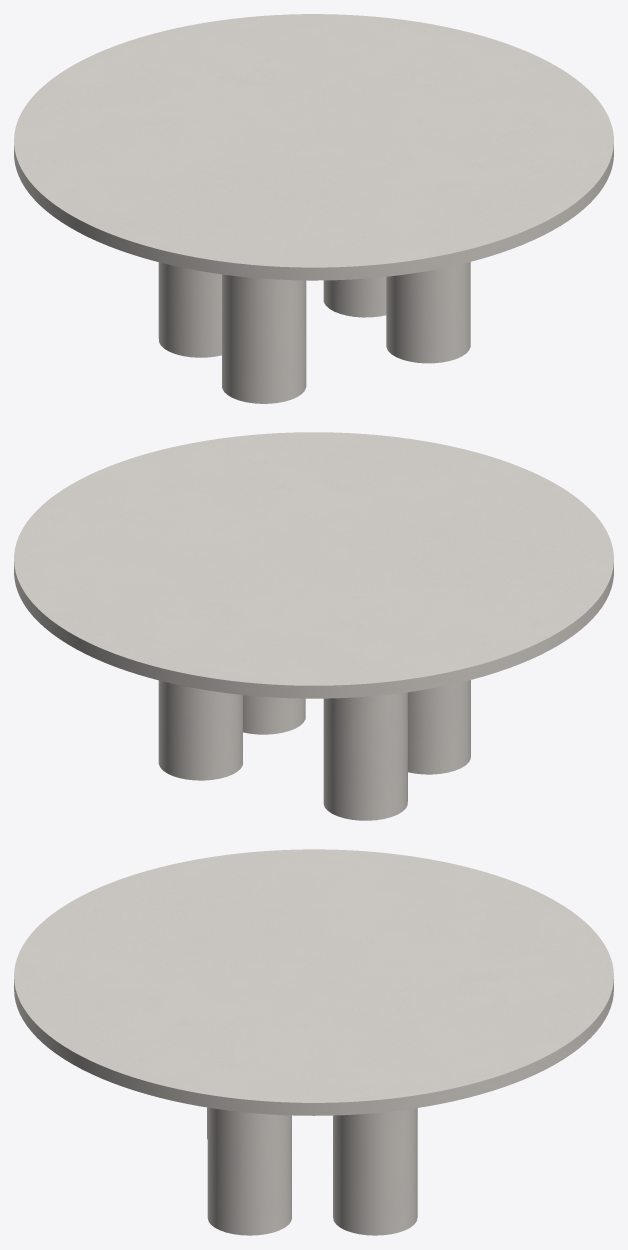
The model's file is pearlwhite_round_standard_grove.glb.
The picture shows the model from 3 angles, top to bottom: view 1: azimuth 30°, elevation 25°; view 2: azimuth 150°, elevation 25°; view 3: azimuth 270°, elevation 25°; orthographic projection.
Visible parts, largest first — view 1: standard_round, grove; view 2: standard_round, grove; view 3: standard_round, grove.
Part boxes in pixels (x1=…): standard_round: x1=14, y1=14, x2=613, y2=280; grove: x1=158, y1=262, x2=470, y2=403; standard_round: x1=14, y1=432, x2=613, y2=698; grove: x1=158, y1=680, x2=470, y2=820; standard_round: x1=14, y1=849, x2=613, y2=1115; grove: x1=207, y1=1107, x2=417, y2=1235.
Size of the model in its own units: 6.75 by 2.5 by 6.75.
Materials: 1 (1 with a texture image).
